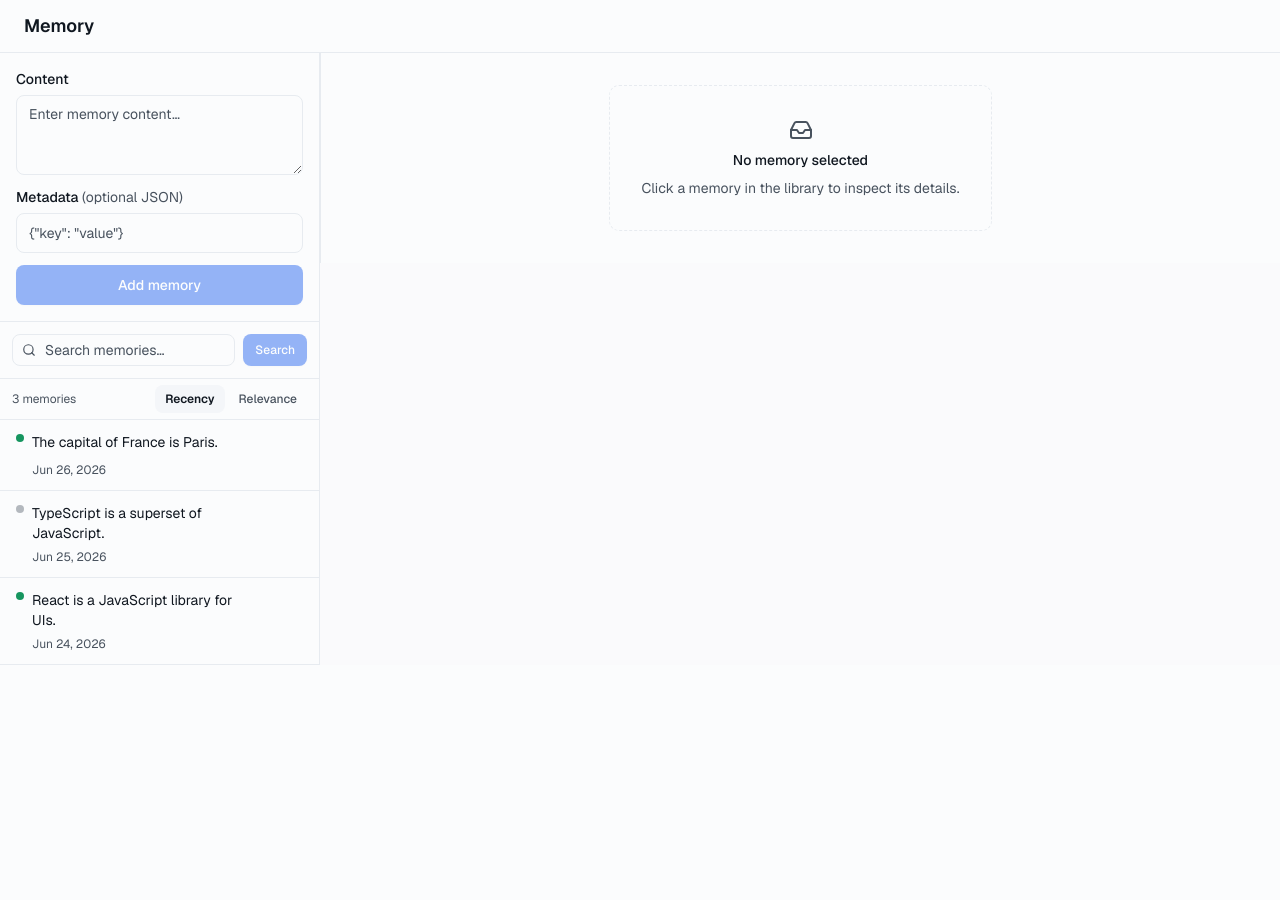
MemoryWorkspace — Console-grade behaviors › score_bar_hidden_when_score_is_null_shows_text_match
Type "something" into the field labelled "Search memories…" at (124, 350), box [12,334,235,366]
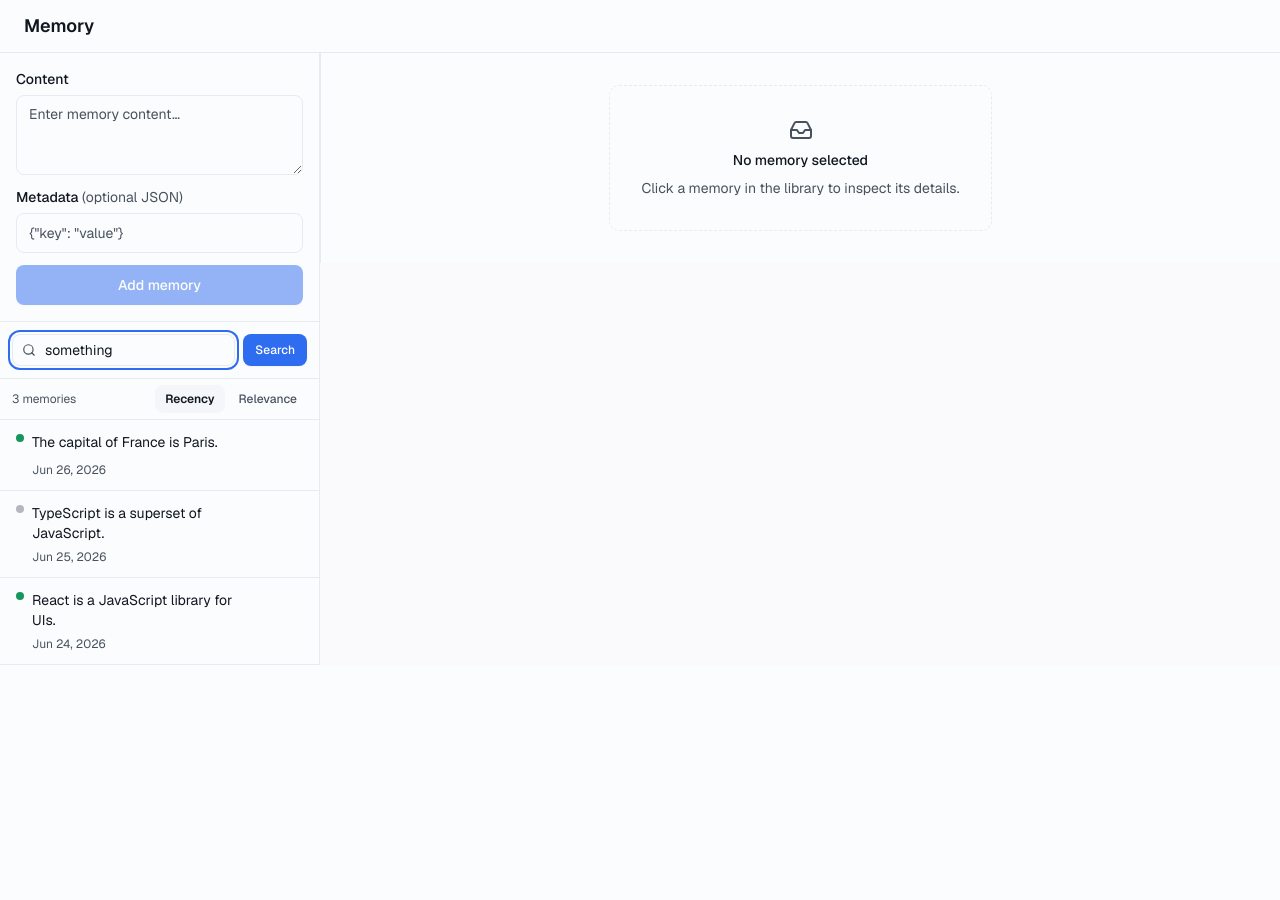
Click the button "Search" at (275, 350), box [243,334,307,366]
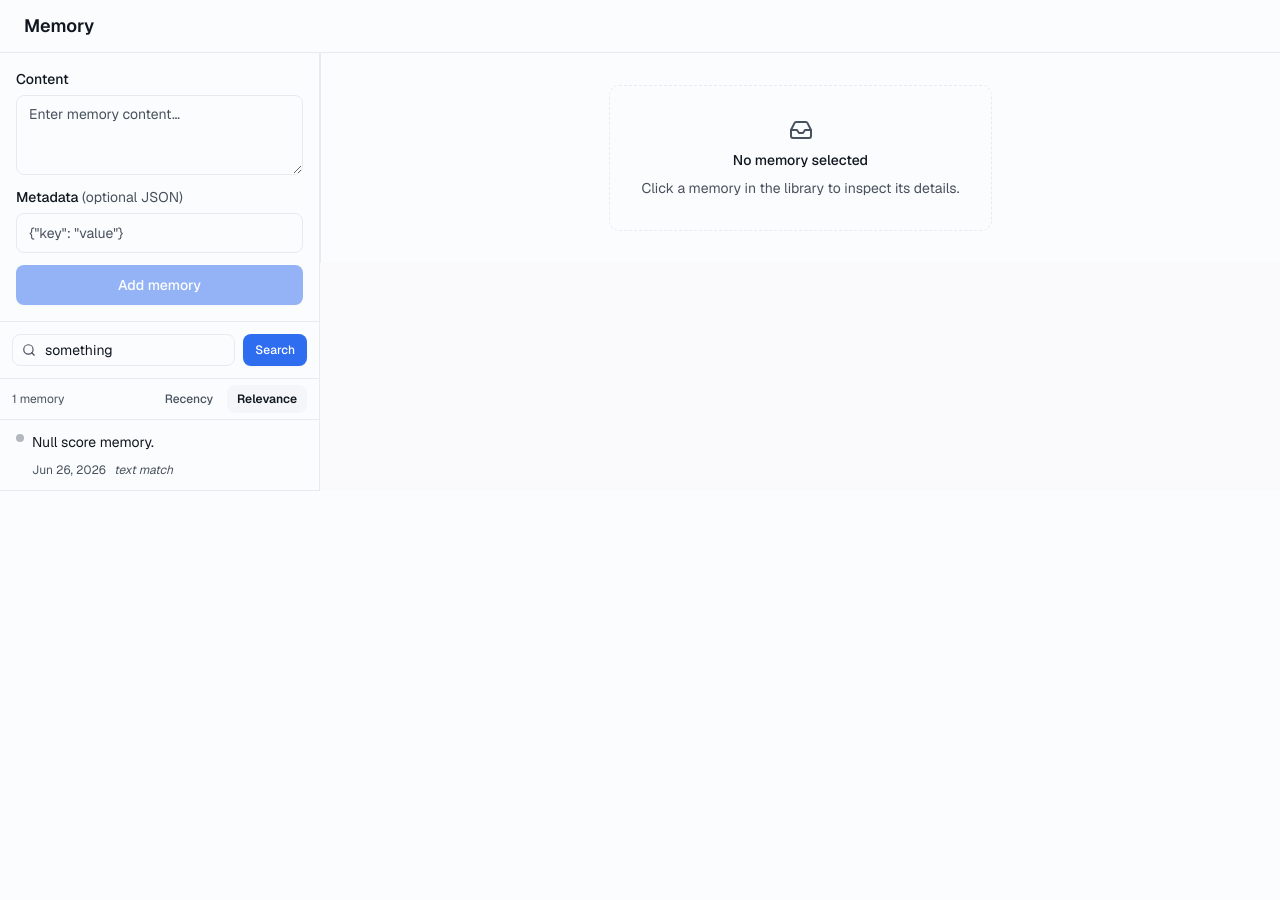
Check: the text "Null score memory." is shown, box [32,433,154,451]
Check: the text "text match" is shown, box [114,462,173,478]
